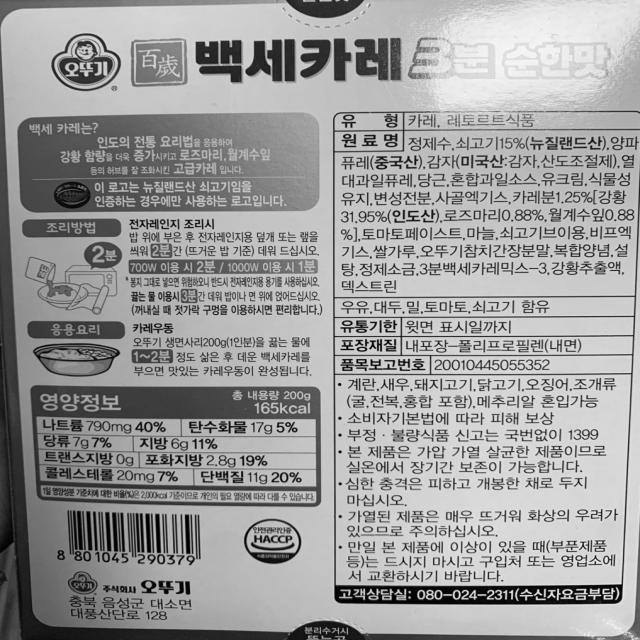Nutrition Label: (24, 377, 325, 515)
